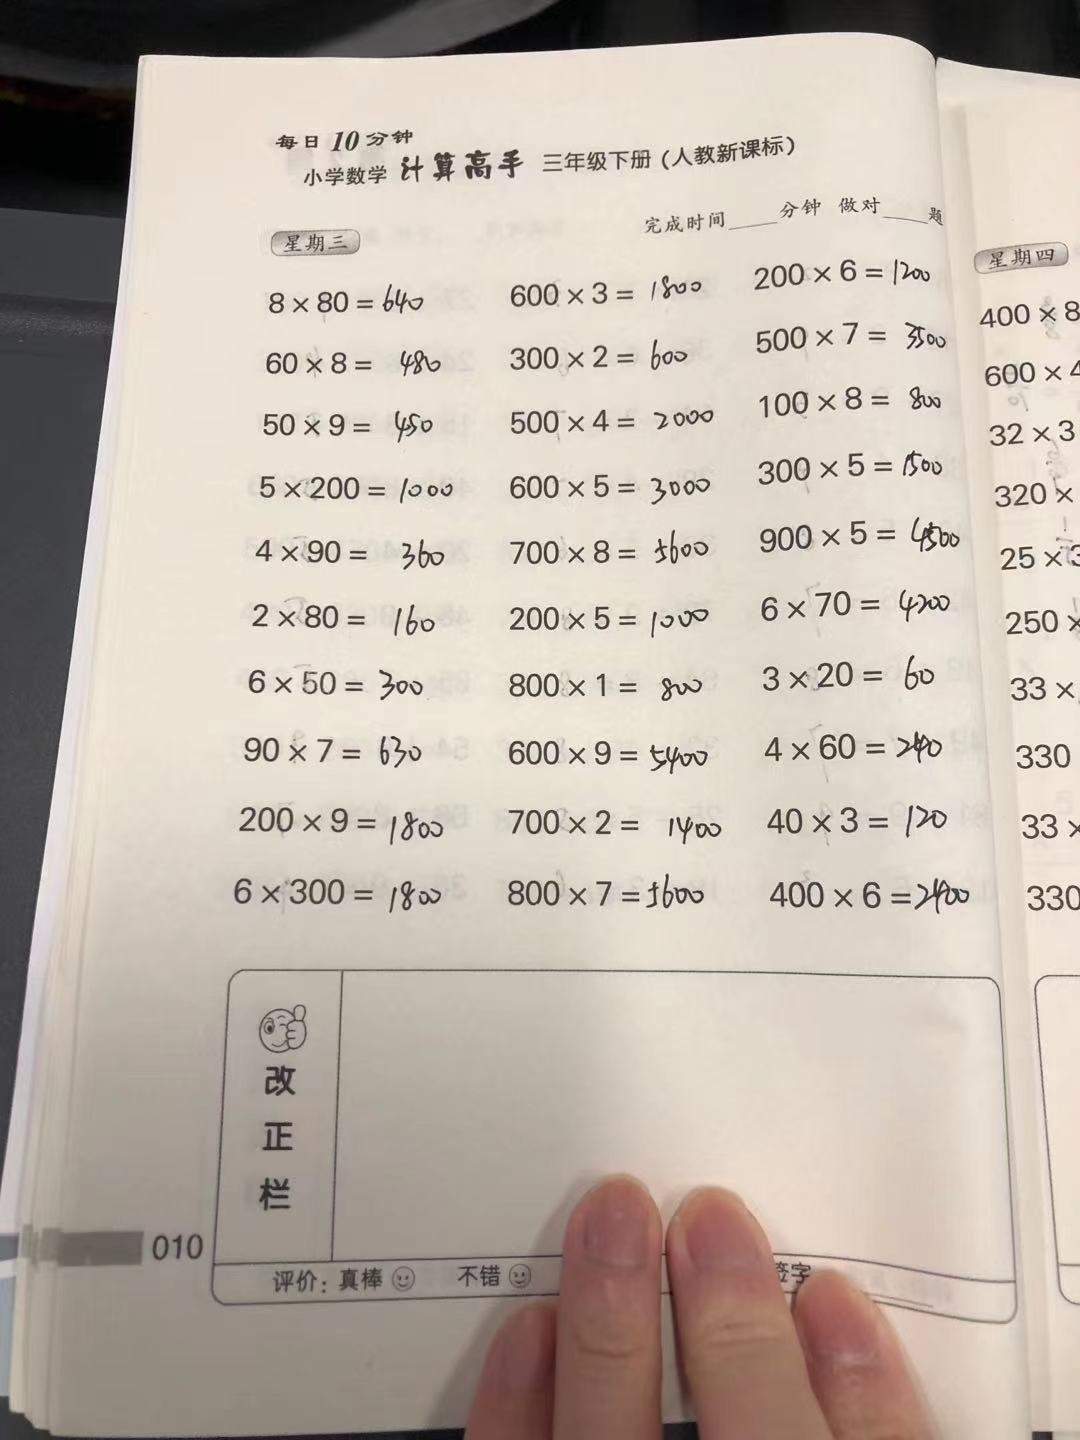equation: (507, 867, 739, 925), (763, 867, 1001, 921), (233, 796, 457, 850), (746, 725, 961, 781), (230, 869, 461, 921), (503, 598, 731, 650), (254, 338, 479, 390), (244, 528, 467, 581), (499, 396, 736, 444), (501, 464, 727, 515), (499, 728, 724, 779), (248, 465, 476, 513), (504, 527, 734, 573), (750, 582, 973, 628), (501, 799, 729, 845), (496, 659, 722, 704), (237, 662, 461, 708), (746, 450, 970, 495), (751, 513, 968, 559), (236, 728, 445, 773), (251, 403, 456, 448), (753, 655, 954, 701), (504, 338, 712, 381), (751, 317, 954, 362), (247, 599, 457, 641), (754, 802, 968, 842), (503, 276, 714, 316), (739, 259, 945, 298), (751, 387, 964, 424), (256, 281, 450, 322)
